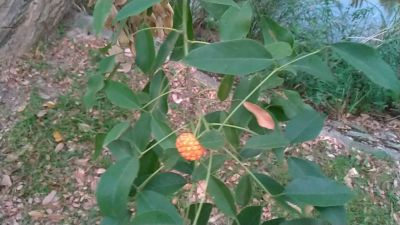eggs: (175, 132, 206, 162)
